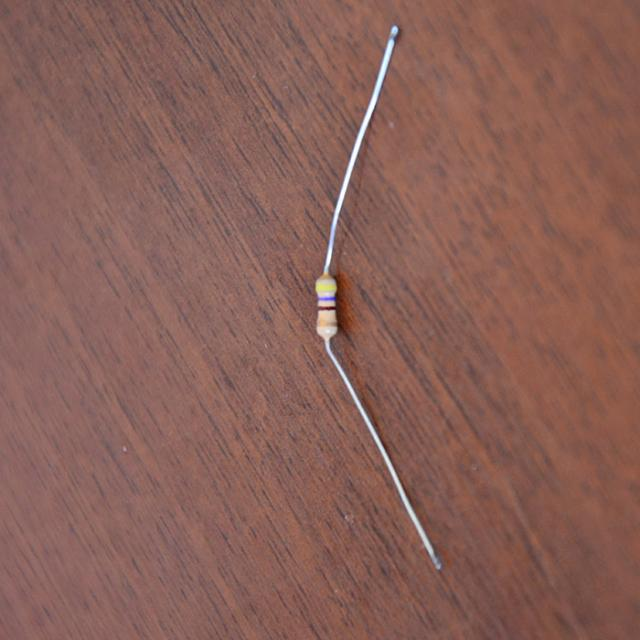brown: (319, 305, 334, 310)
gold: (318, 321, 336, 325)
resistor: (312, 280, 339, 345)
violet: (318, 297, 334, 300)
yellow: (316, 285, 335, 291)
